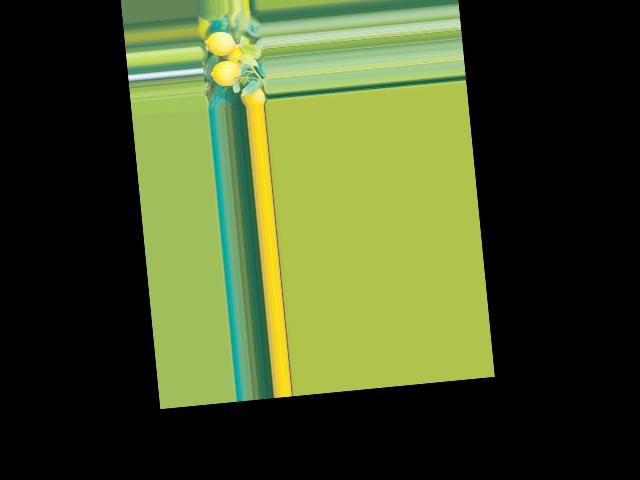lemon: (204, 30, 237, 56)
